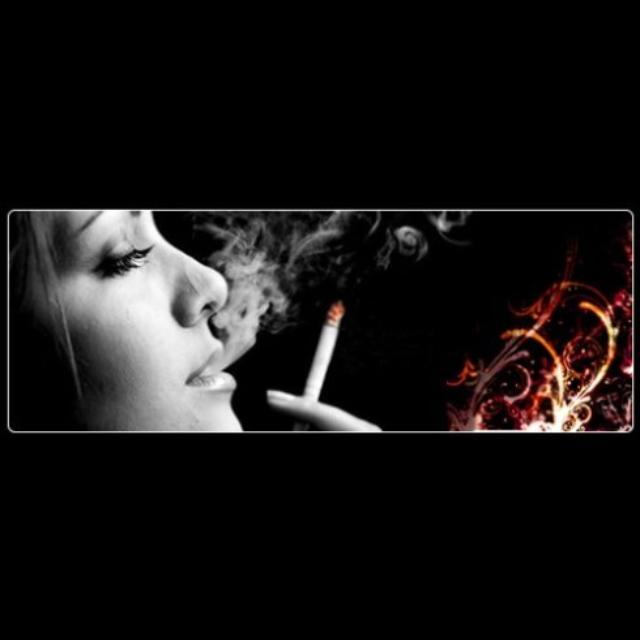rokok: (302, 300, 354, 420)
